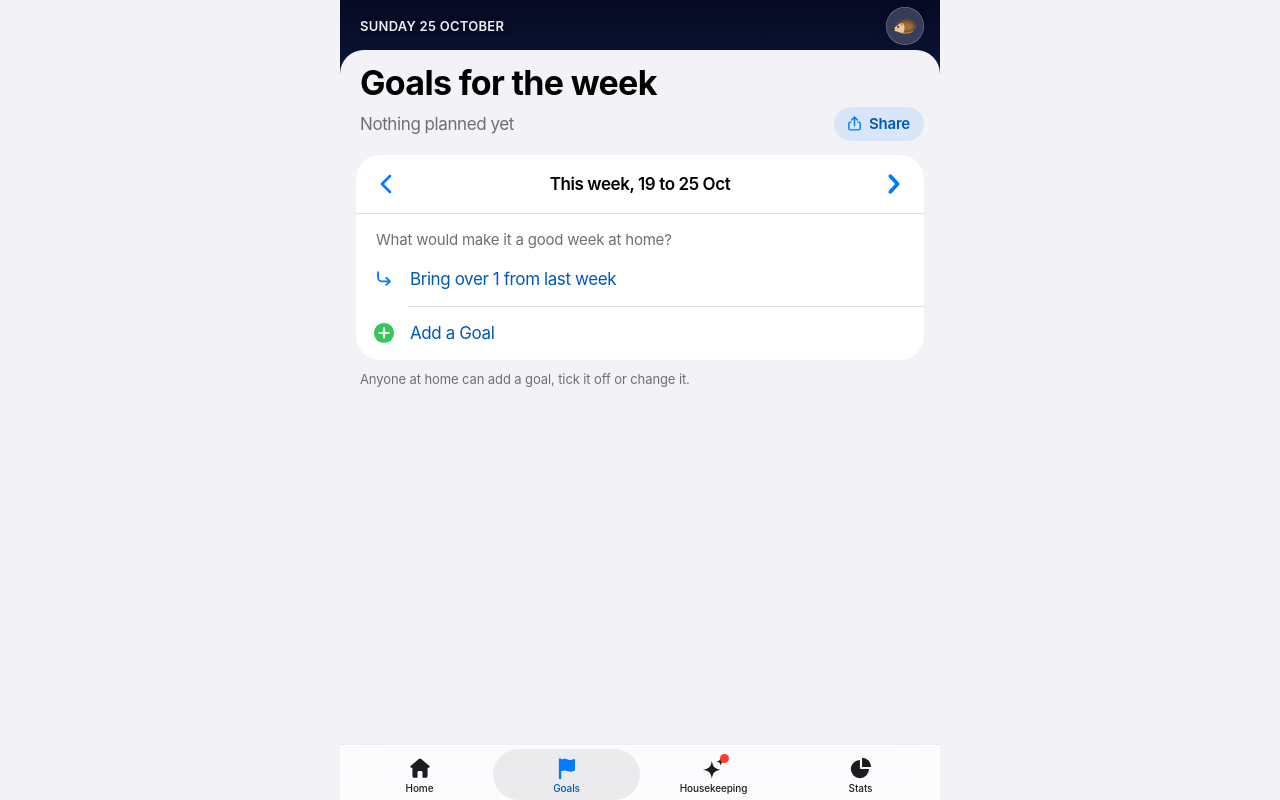
Test: Goals for the week › an empty week with last week unfinished offers to bring those over
Expected: the heading "Goals for the week" is shown, [360,62,657,103]
Expected: the text "What would make it a good week at home?" is shown, [376,230,672,249]
Click the button "Bring over 1 from last week".
click(513, 279)  # box [356,252,924,306]
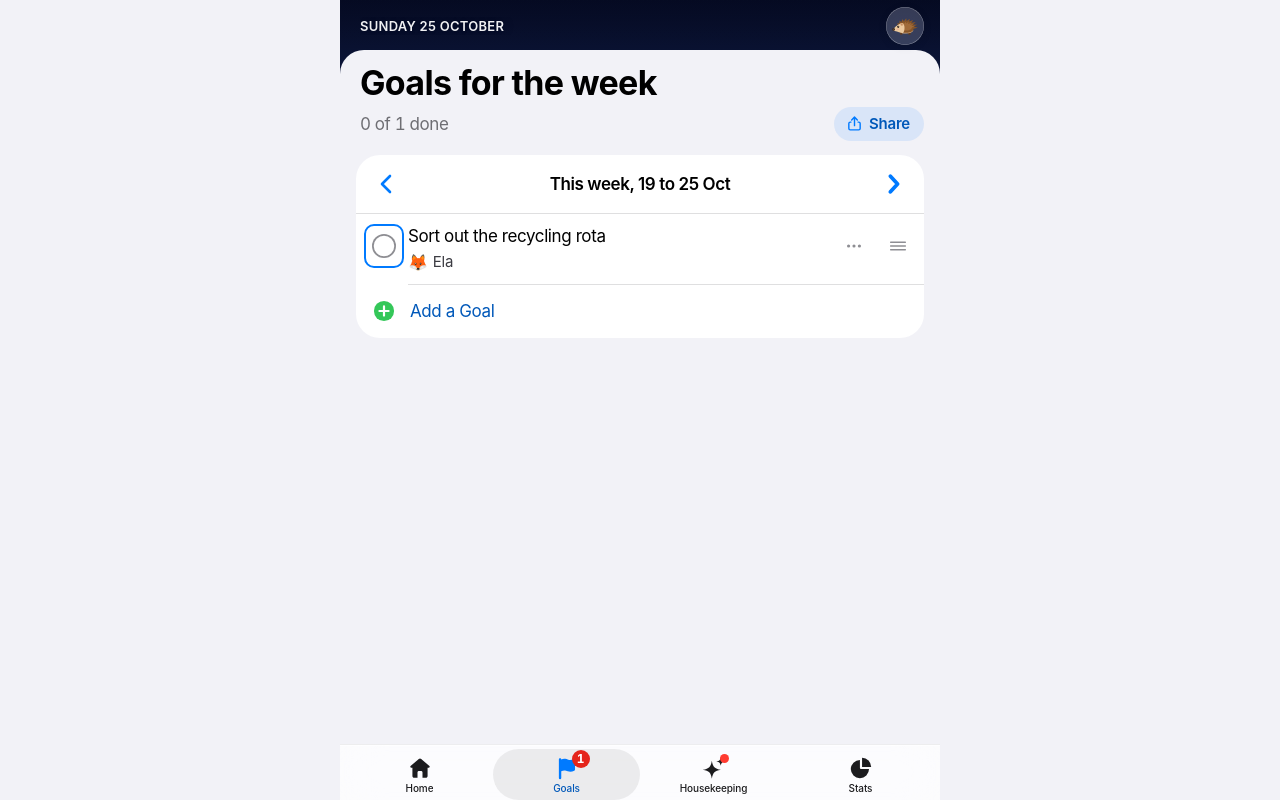
Expected: the button "Bring over" is gone
